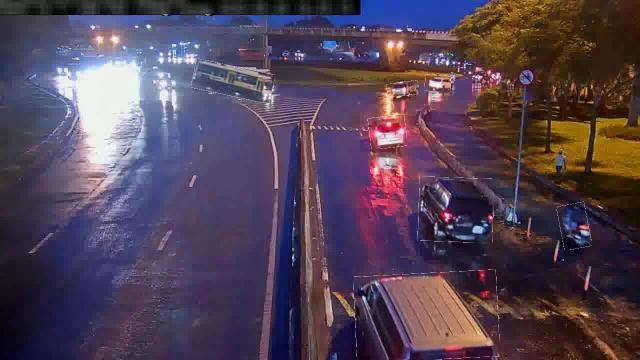Bike: (558, 203, 590, 249)
Bus: (192, 62, 274, 100)
Car: (354, 271, 500, 359), (418, 178, 494, 243), (369, 115, 407, 148), (425, 74, 451, 92), (387, 82, 419, 96)
